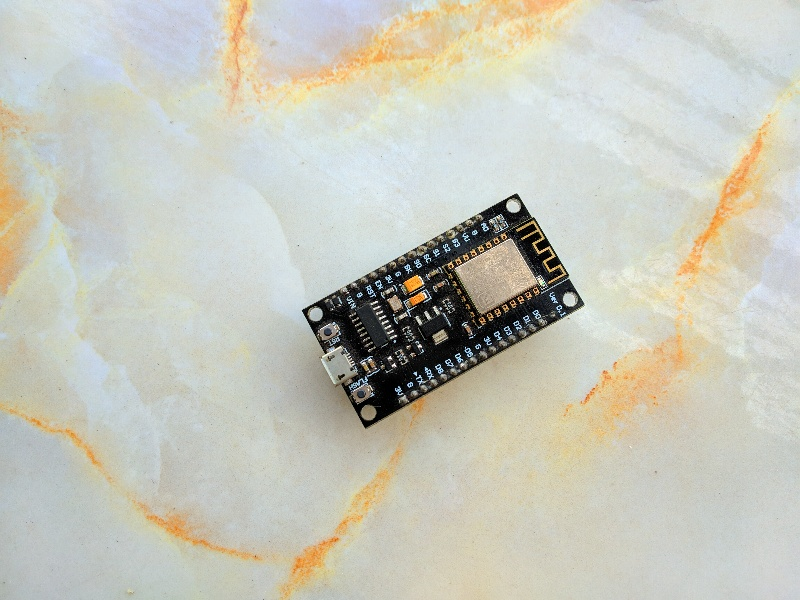NodeMCU: (289, 186, 599, 433)
